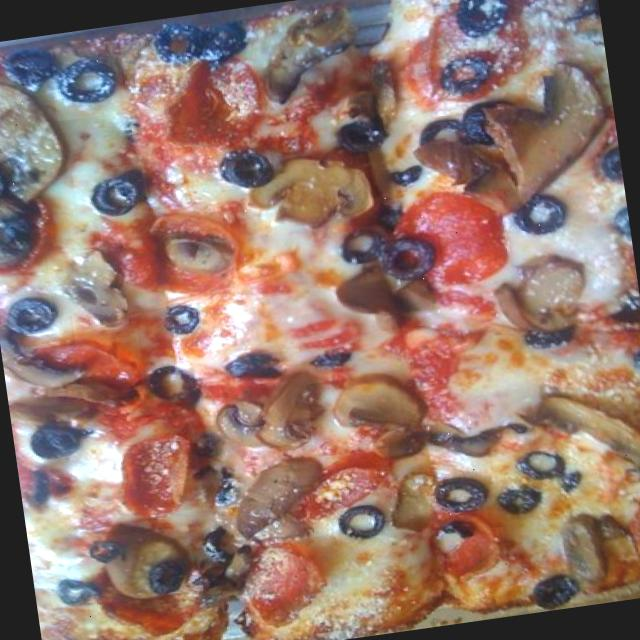Olive: (124, 8, 252, 76), (47, 40, 126, 122), (414, 465, 498, 537), (72, 163, 150, 222), (500, 179, 570, 242), (215, 348, 304, 397), (492, 445, 574, 495), (482, 468, 550, 528), (362, 236, 442, 282), (4, 35, 56, 97), (32, 416, 96, 465), (0, 292, 58, 341), (576, 143, 626, 198), (524, 572, 588, 614), (214, 150, 274, 190), (48, 569, 103, 608), (327, 222, 378, 264), (610, 331, 640, 385), (598, 192, 631, 238), (630, 489, 640, 554)
mushrooms: (460, 62, 626, 218), (527, 362, 640, 488), (232, 150, 398, 232), (306, 366, 451, 454), (235, 359, 351, 454), (490, 248, 596, 346), (0, 57, 66, 213), (232, 444, 331, 546), (86, 525, 198, 605), (45, 246, 131, 344), (0, 315, 81, 400), (544, 509, 608, 598), (176, 226, 236, 282)
pepperoni: (384, 184, 525, 300), (98, 201, 234, 315), (406, 0, 547, 104), (150, 49, 262, 164), (208, 539, 345, 631), (98, 411, 205, 523), (81, 553, 209, 640), (290, 448, 398, 533), (46, 320, 146, 406), (442, 514, 508, 580)
pizza: (0, 0, 640, 640)
